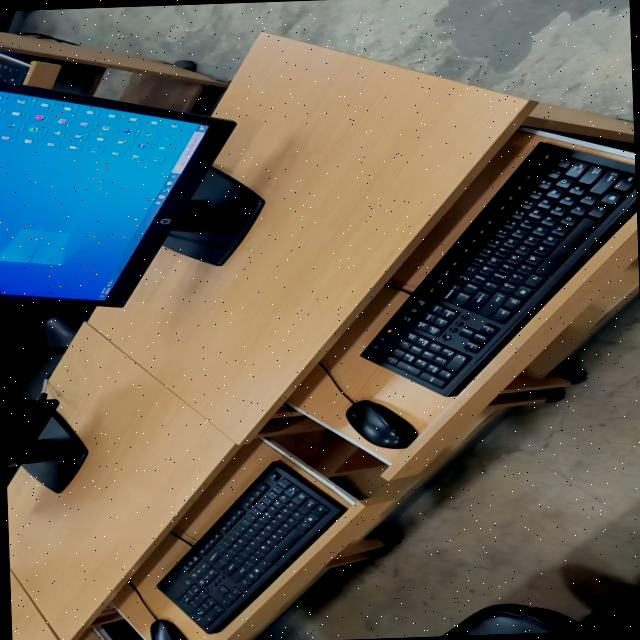Chair: (440, 585, 640, 636)
Keyboard: (360, 142, 636, 396), (157, 461, 345, 633), (0, 53, 28, 84)
Monitor: (0, 83, 263, 307), (3, 398, 86, 492)
Mouse: (345, 400, 416, 448), (149, 619, 185, 640)
